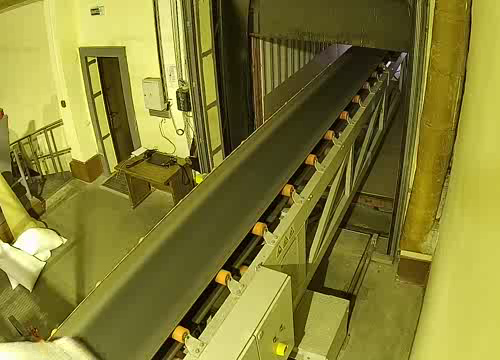bag: (0, 332, 106, 360)
